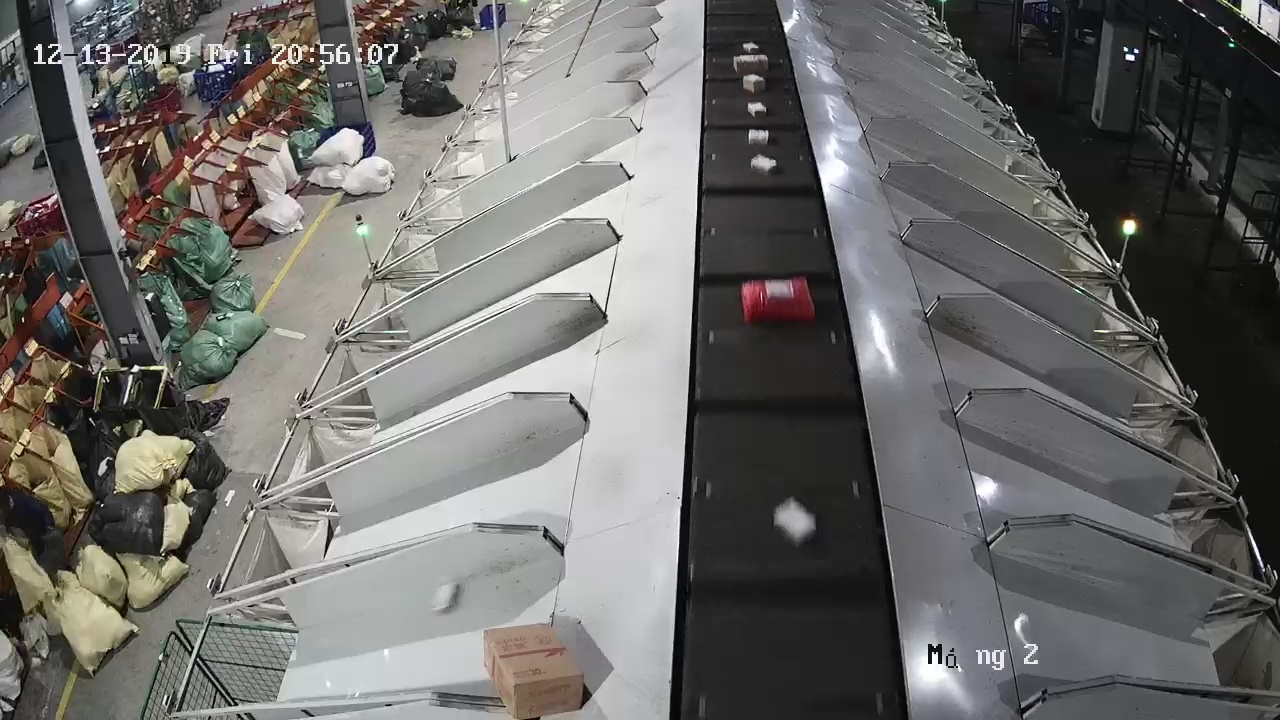parcel: (428, 581, 459, 614)
